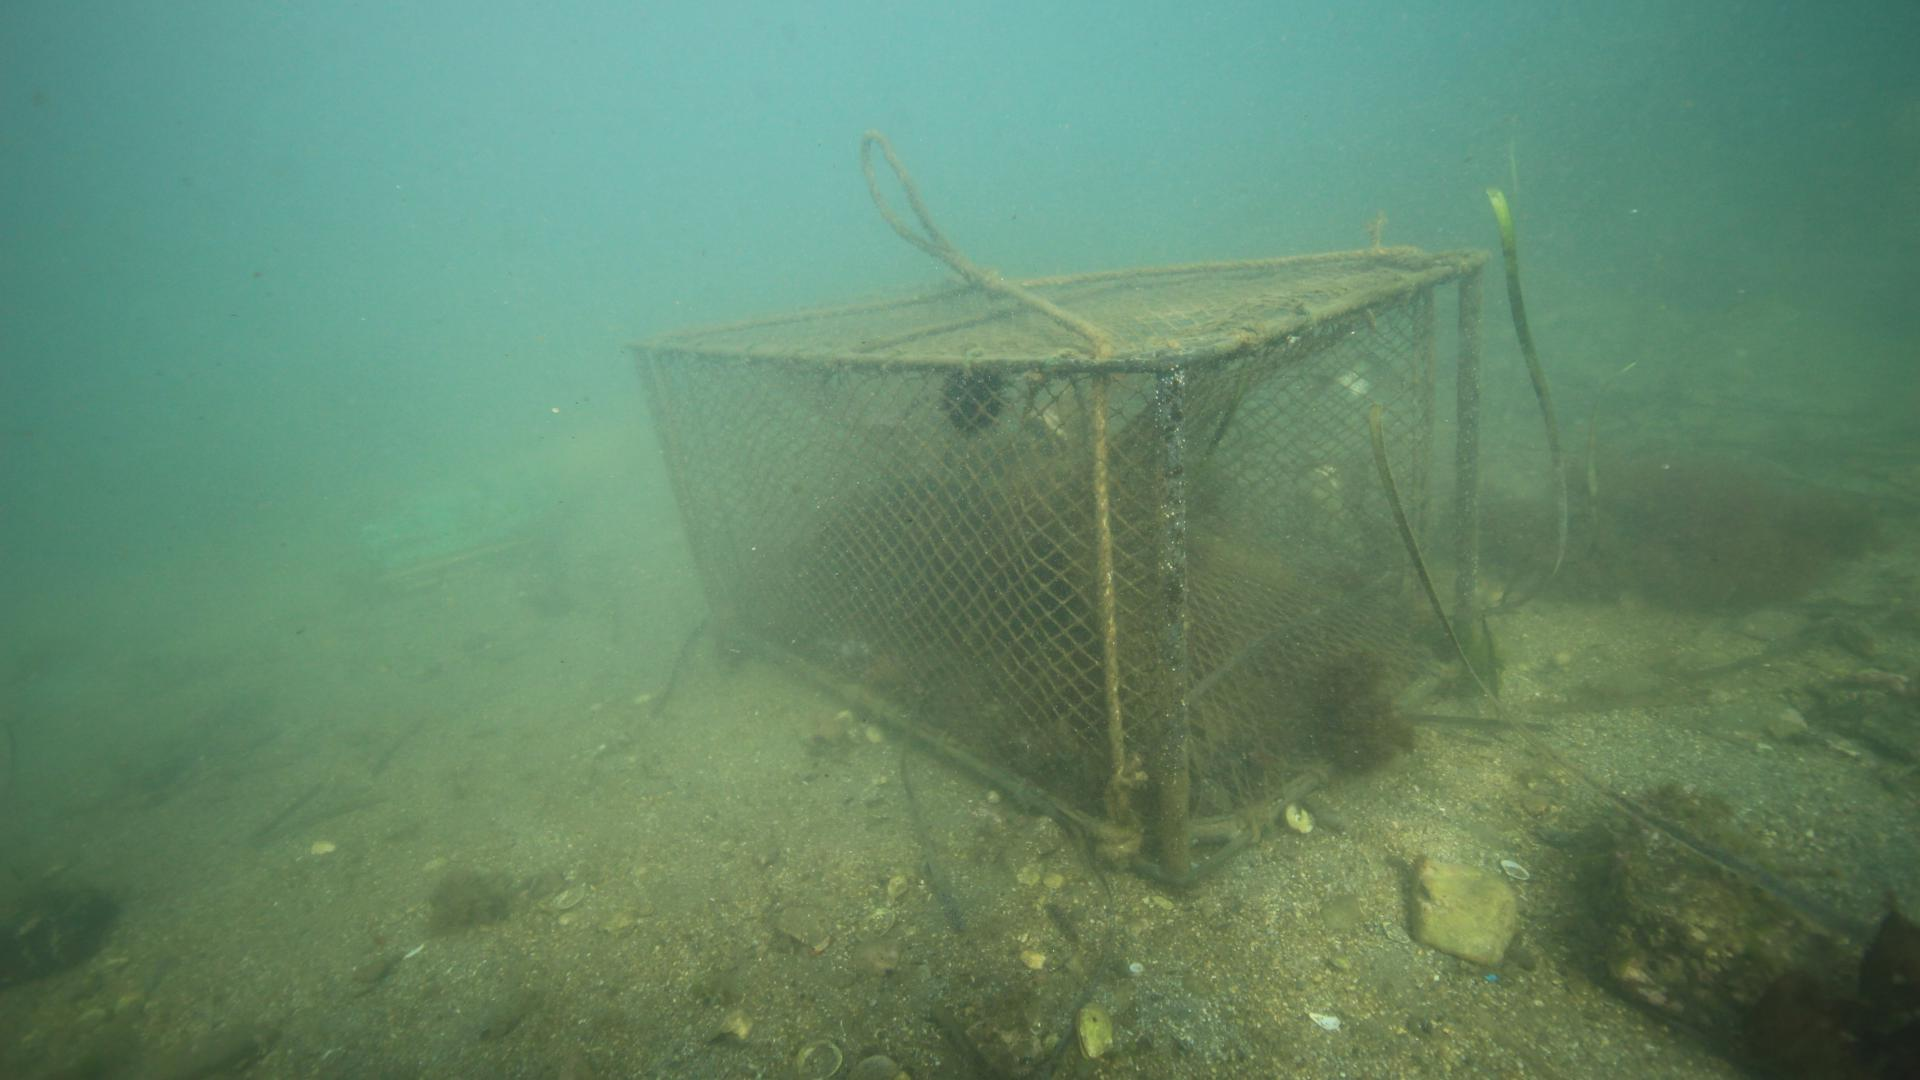bundle of ropes: (852, 125, 1030, 273)
rectangular fish trap: (621, 237, 1506, 895)
